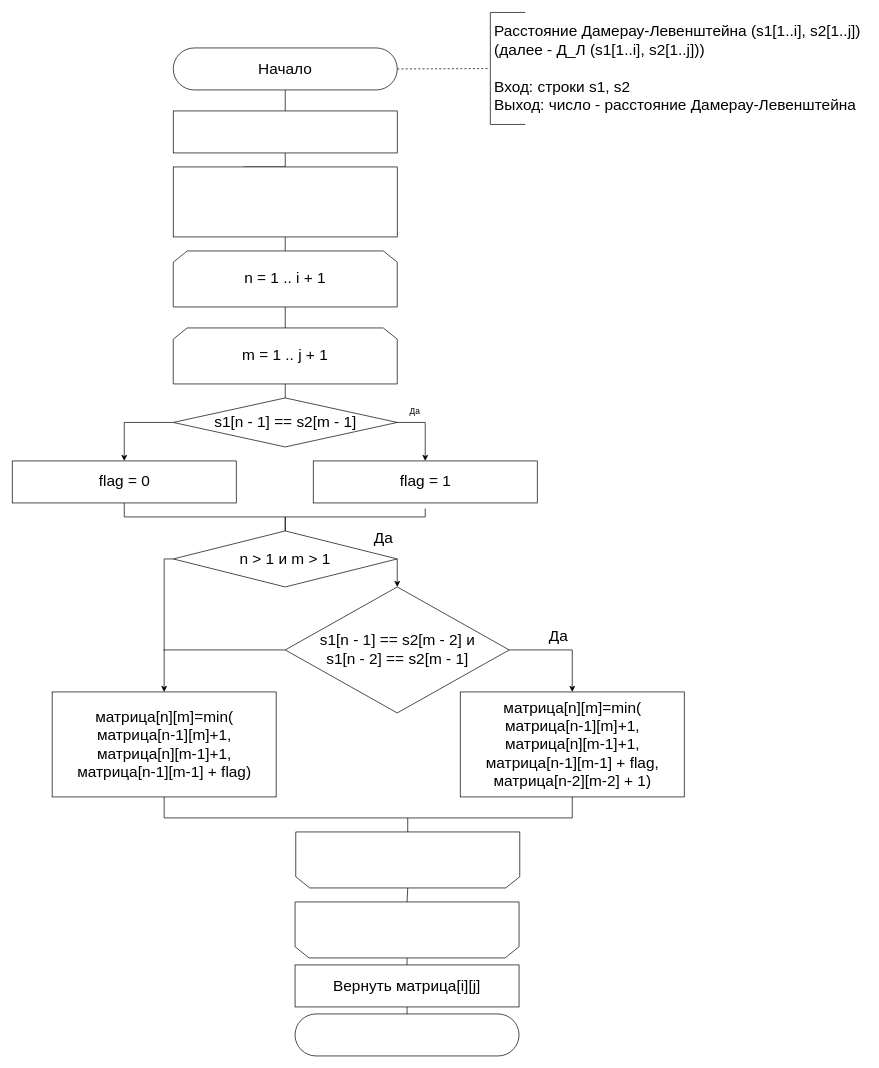
The diagram is 879 pixels wide and 1068 high, and some of its shapes have lost their labels. Each missing label, with the centre of its shape:
"i = длина (s1) j = длина (s2)" belongs at (x=285, y=131).
"m++" belongs at (x=407, y=859).
"n++" belongs at (x=406, y=929).
"Конец" belongs at (x=406, y=1034).
"Создать матрицу и заполнить нулевую строку и нулевой столбец" belongs at (x=285, y=201).
